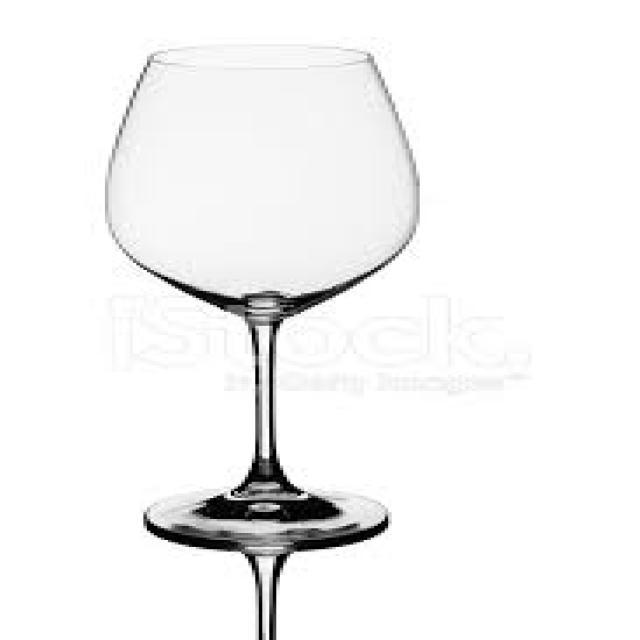Glass: (103, 45, 420, 551)
